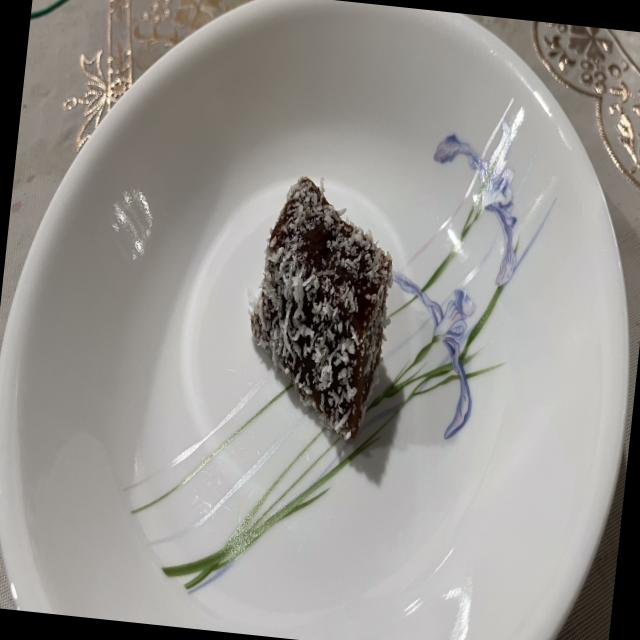kaswi: (250, 175, 392, 439)
